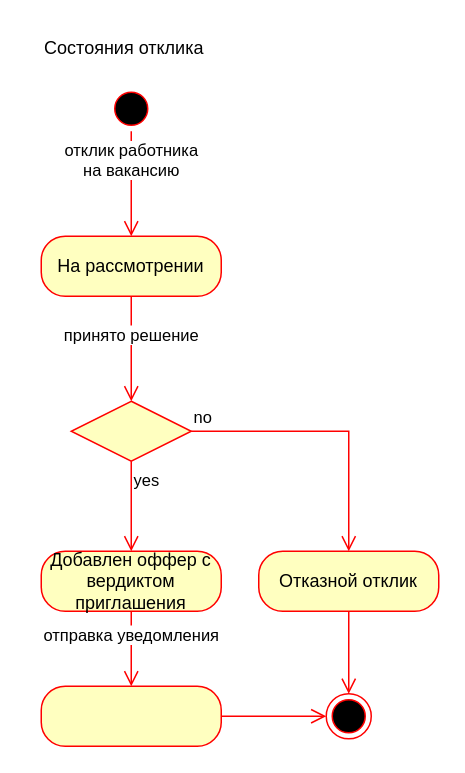
Some shapes in this 465 by 773 pixel diagram are drawn without their labels. The shapes that lost their labels are listed below. From the top down, each one's centre as x and y in pixels, then its label:
At point (130, 430): "Работник приглашен".
At point (130, 715): "Оффер отправлен".
